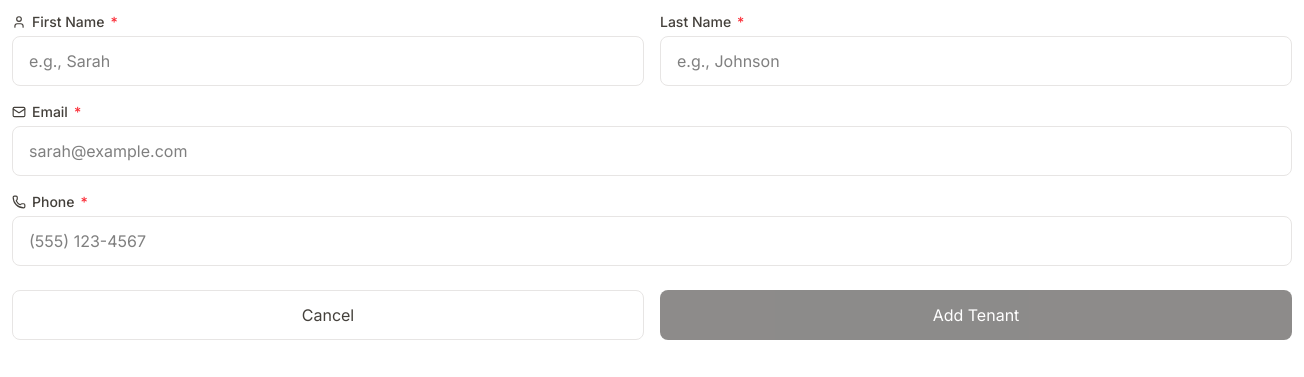
Test case: CreateTenantForm › shows email error when email is invalid
The width and height of the screenshot is (1304, 377).
Type "not-an-email" into the field labelled "Email *" at point(652, 151), box [12,126,1292,176]
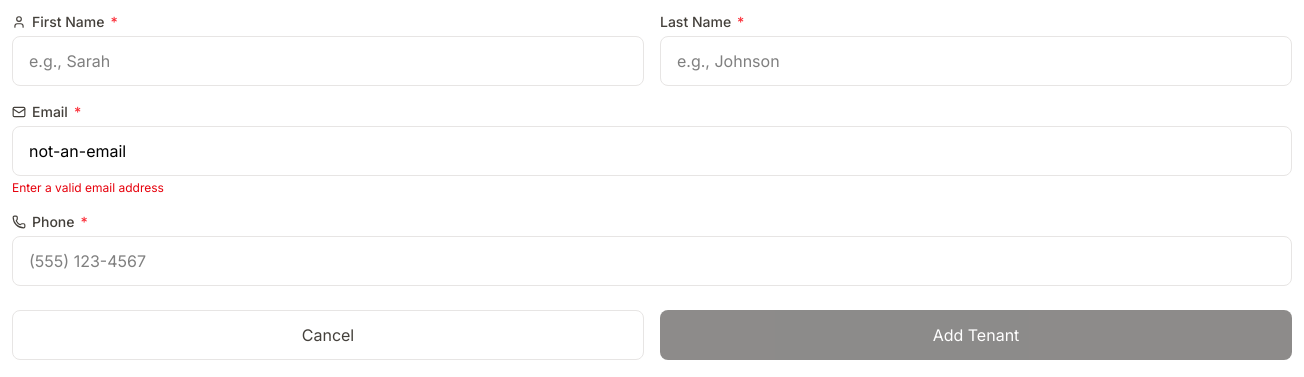
Result: the text "Enter a valid email address" is shown at [12,180,164,195]
